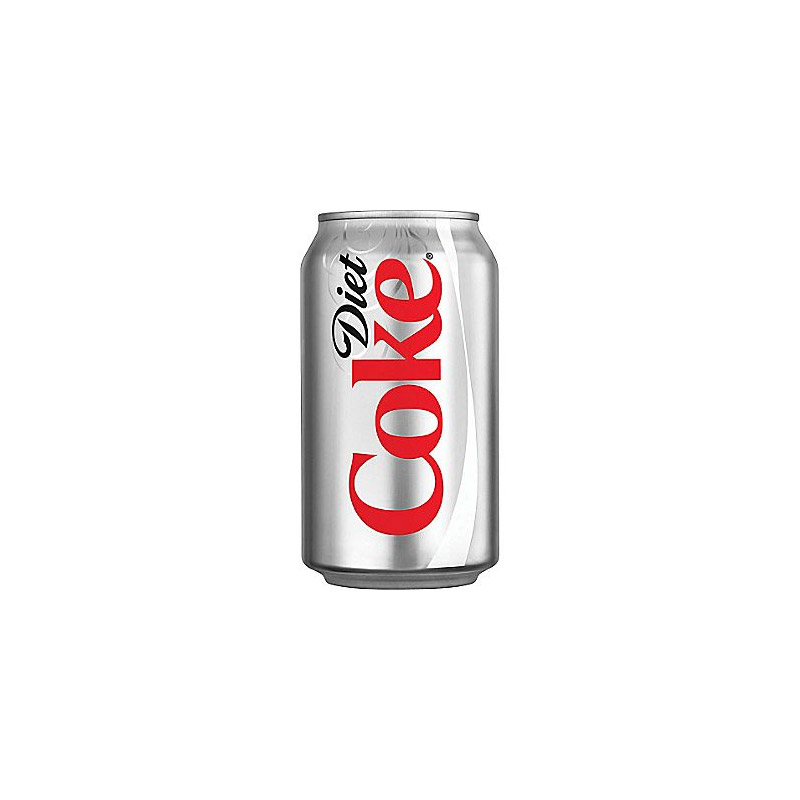can: (294, 202, 508, 596)
